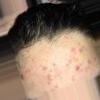Acne: (13, 47, 99, 81)
